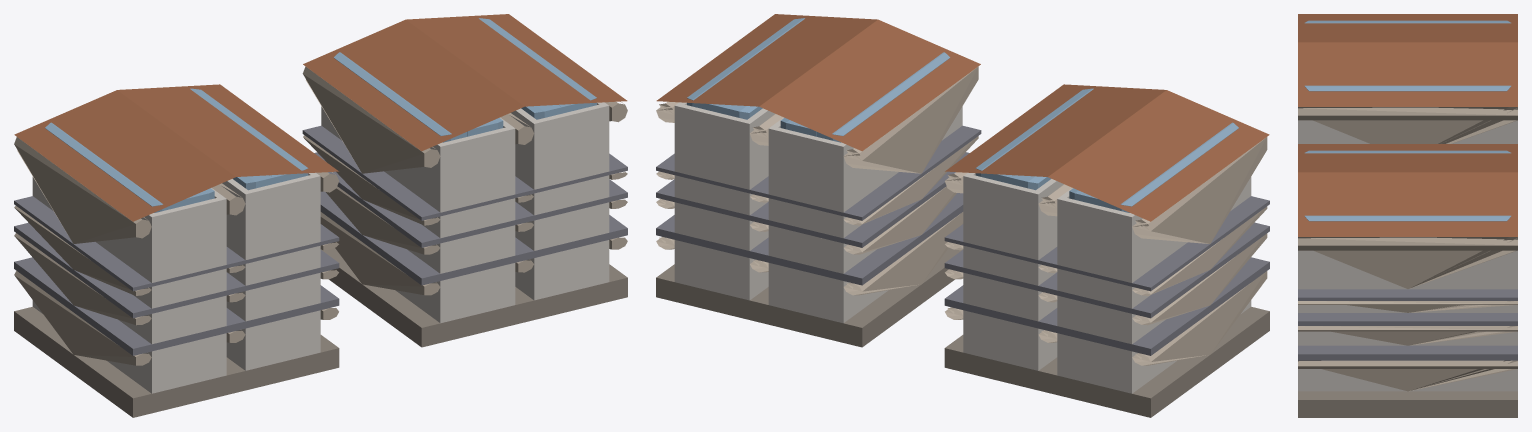
Rendered from colored_city_colored.glb.
The picture shows the model from 3 angles, left to right: view 1: azimuth 30°, elevation 25°; view 2: azimuth 150°, elevation 25°; view 3: azimuth 270°, elevation 25°; orthographic projection. The views are drawn at different scales.
Parts seen in each view (by area): view 1: world; view 2: world; view 3: world.
Boxes of the visible parts, x1,y1,x2,y2 form: world: (14, 14, 627, 417); world: (656, 14, 1269, 417); world: (1298, 14, 1517, 417).
Bounding box in the file's own units: 24 × 10 × 10.
